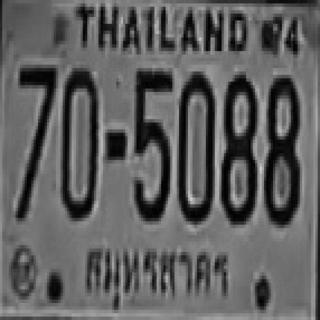N00: (59, 65, 97, 218), (177, 68, 213, 221)
N05: (132, 68, 172, 218)
N07: (16, 63, 56, 216)
N08: (219, 72, 255, 221), (262, 72, 298, 221)
P58: (79, 237, 236, 316)
